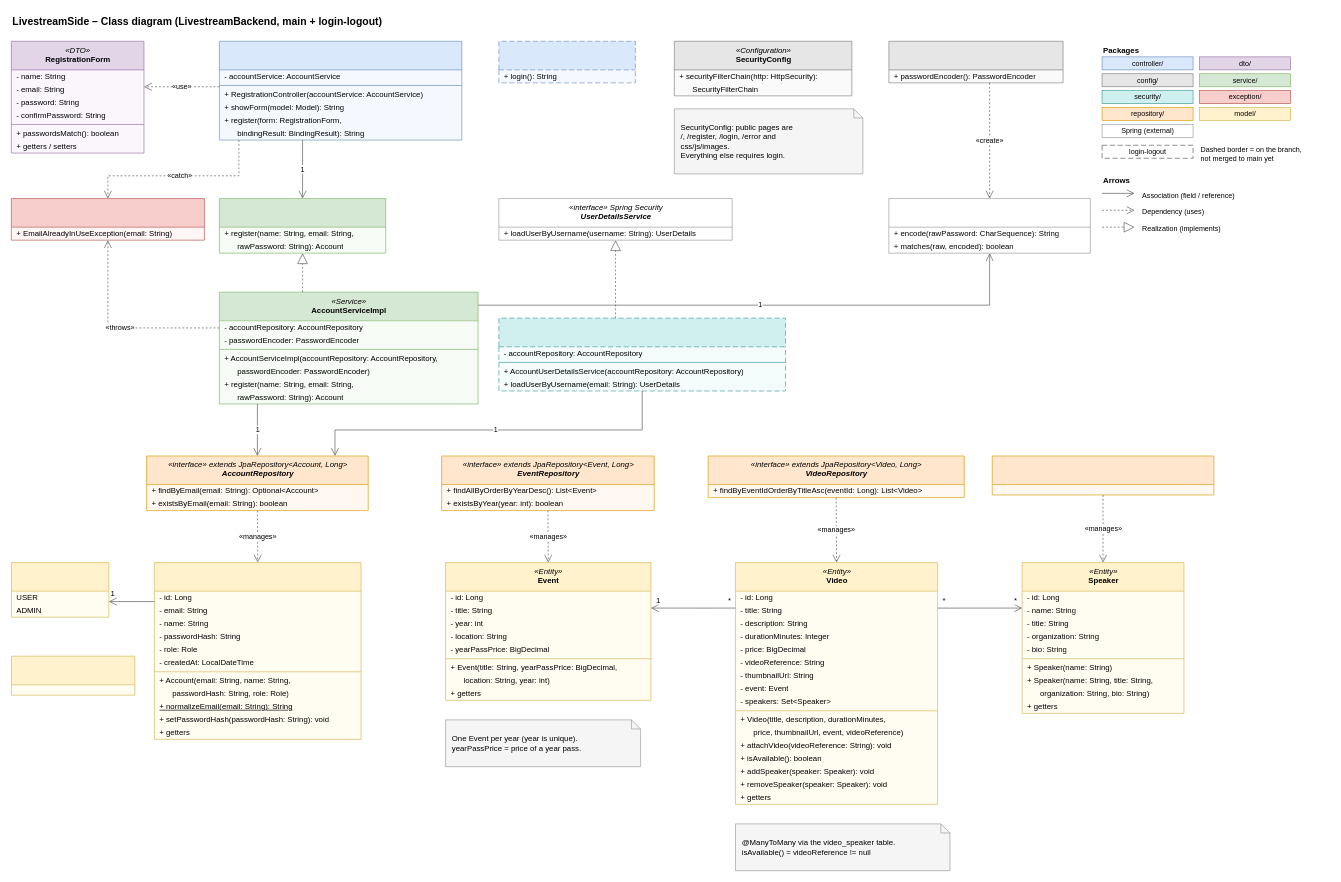
Some shapes in this 1341 by 882 pixel diagram are drawn without their labels. Here are the shapes that lost their labels. From the top down, the box of each, then its label:
(498, 41, 635, 83): «Controller» login-logout LoginController
(888, 41, 1063, 83): «Configuration» PasswordConfig
(219, 41, 462, 140): «Controller» /register RegistrationController
(11, 198, 204, 240): «exception» extends RuntimeException EmailAlreadyInUseException
(219, 198, 386, 253): «interface» AccountService
(888, 198, 1090, 253): «interface» Spring Security PasswordEncoder
(498, 318, 786, 391): «Service» login-logout AccountUserDetailsService
(992, 455, 1214, 495): «interface» extends JpaRepository<Speaker, Long> SpeakerRepository
(11, 562, 109, 617): «enumeration» Role
(154, 562, 361, 739): «Entity» table: users Account
(11, 656, 135, 695): empty – not an @Entity yet Purchase
